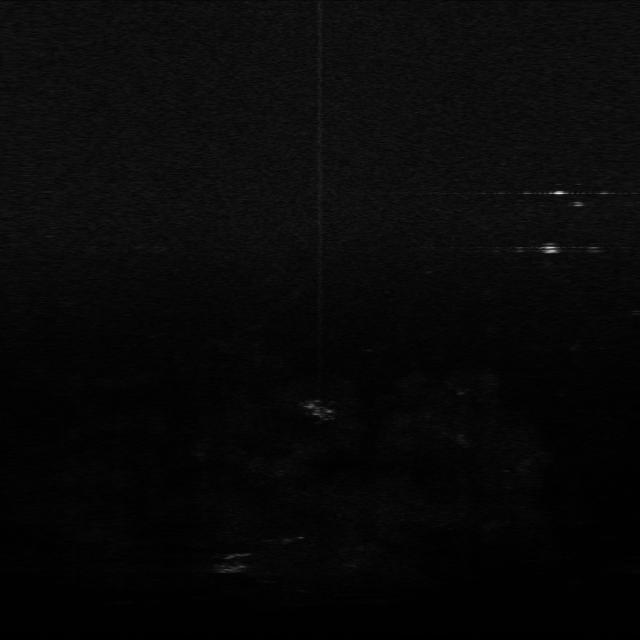rov: (533, 238, 563, 257)
